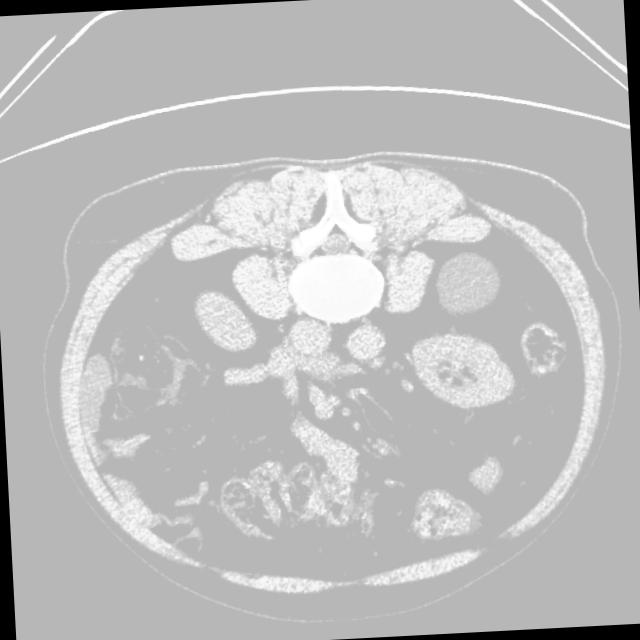cysts: (47, 144, 615, 614)
